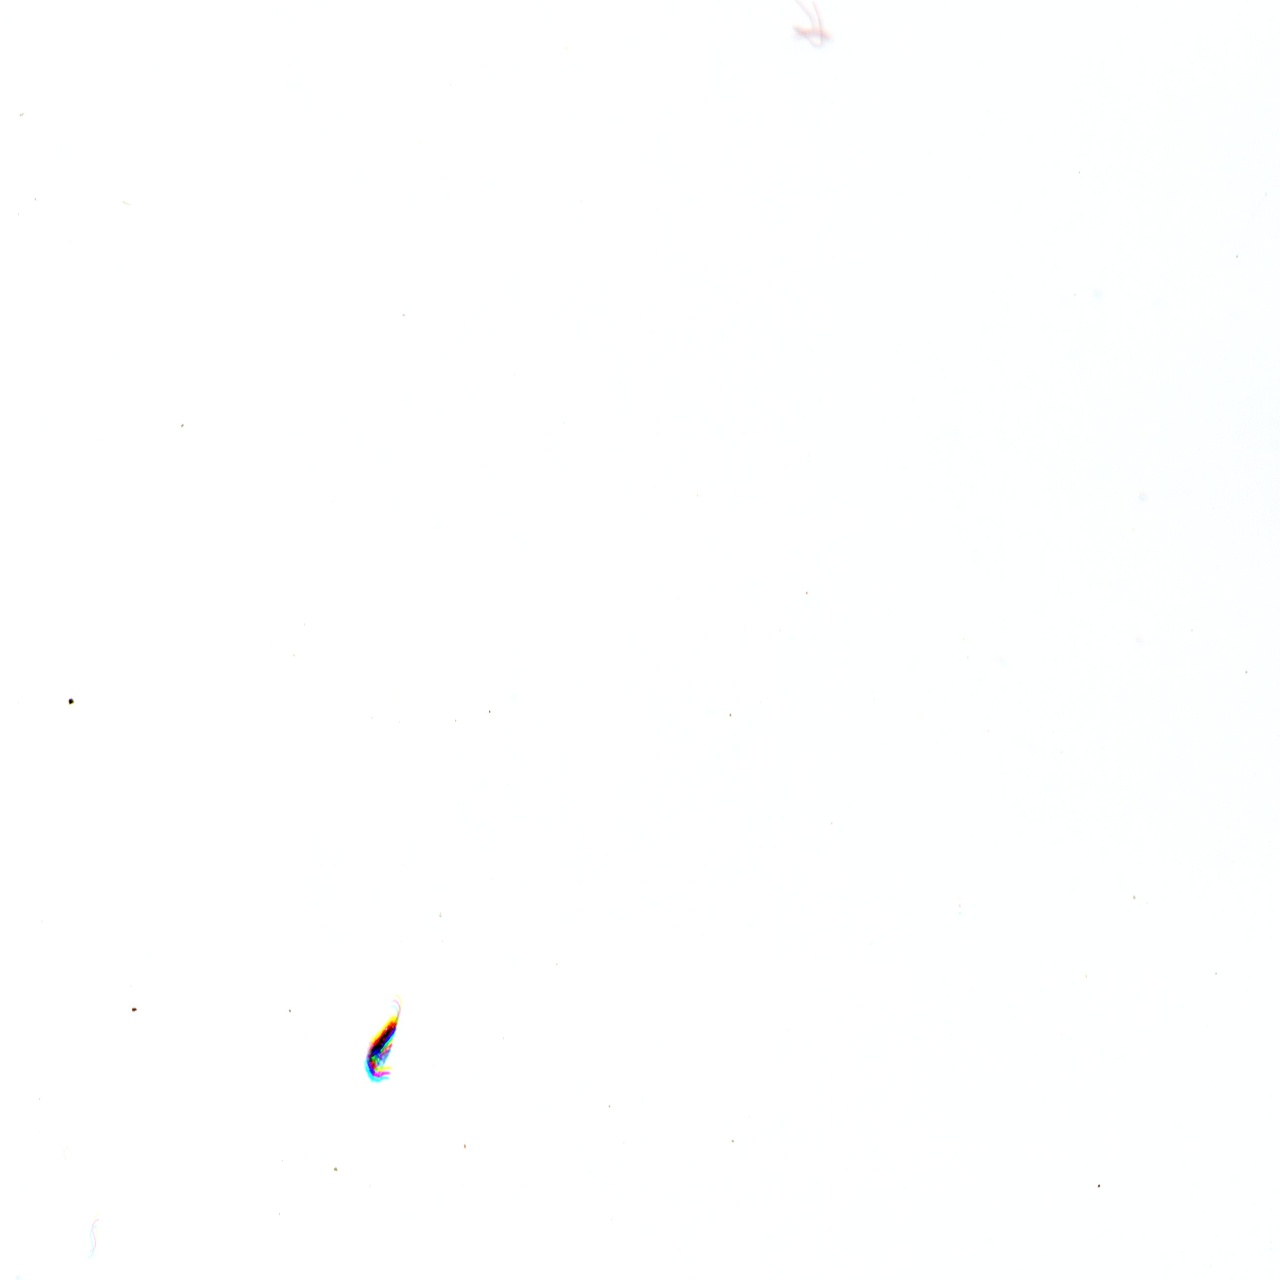arthropod: (360, 989, 407, 1087)
